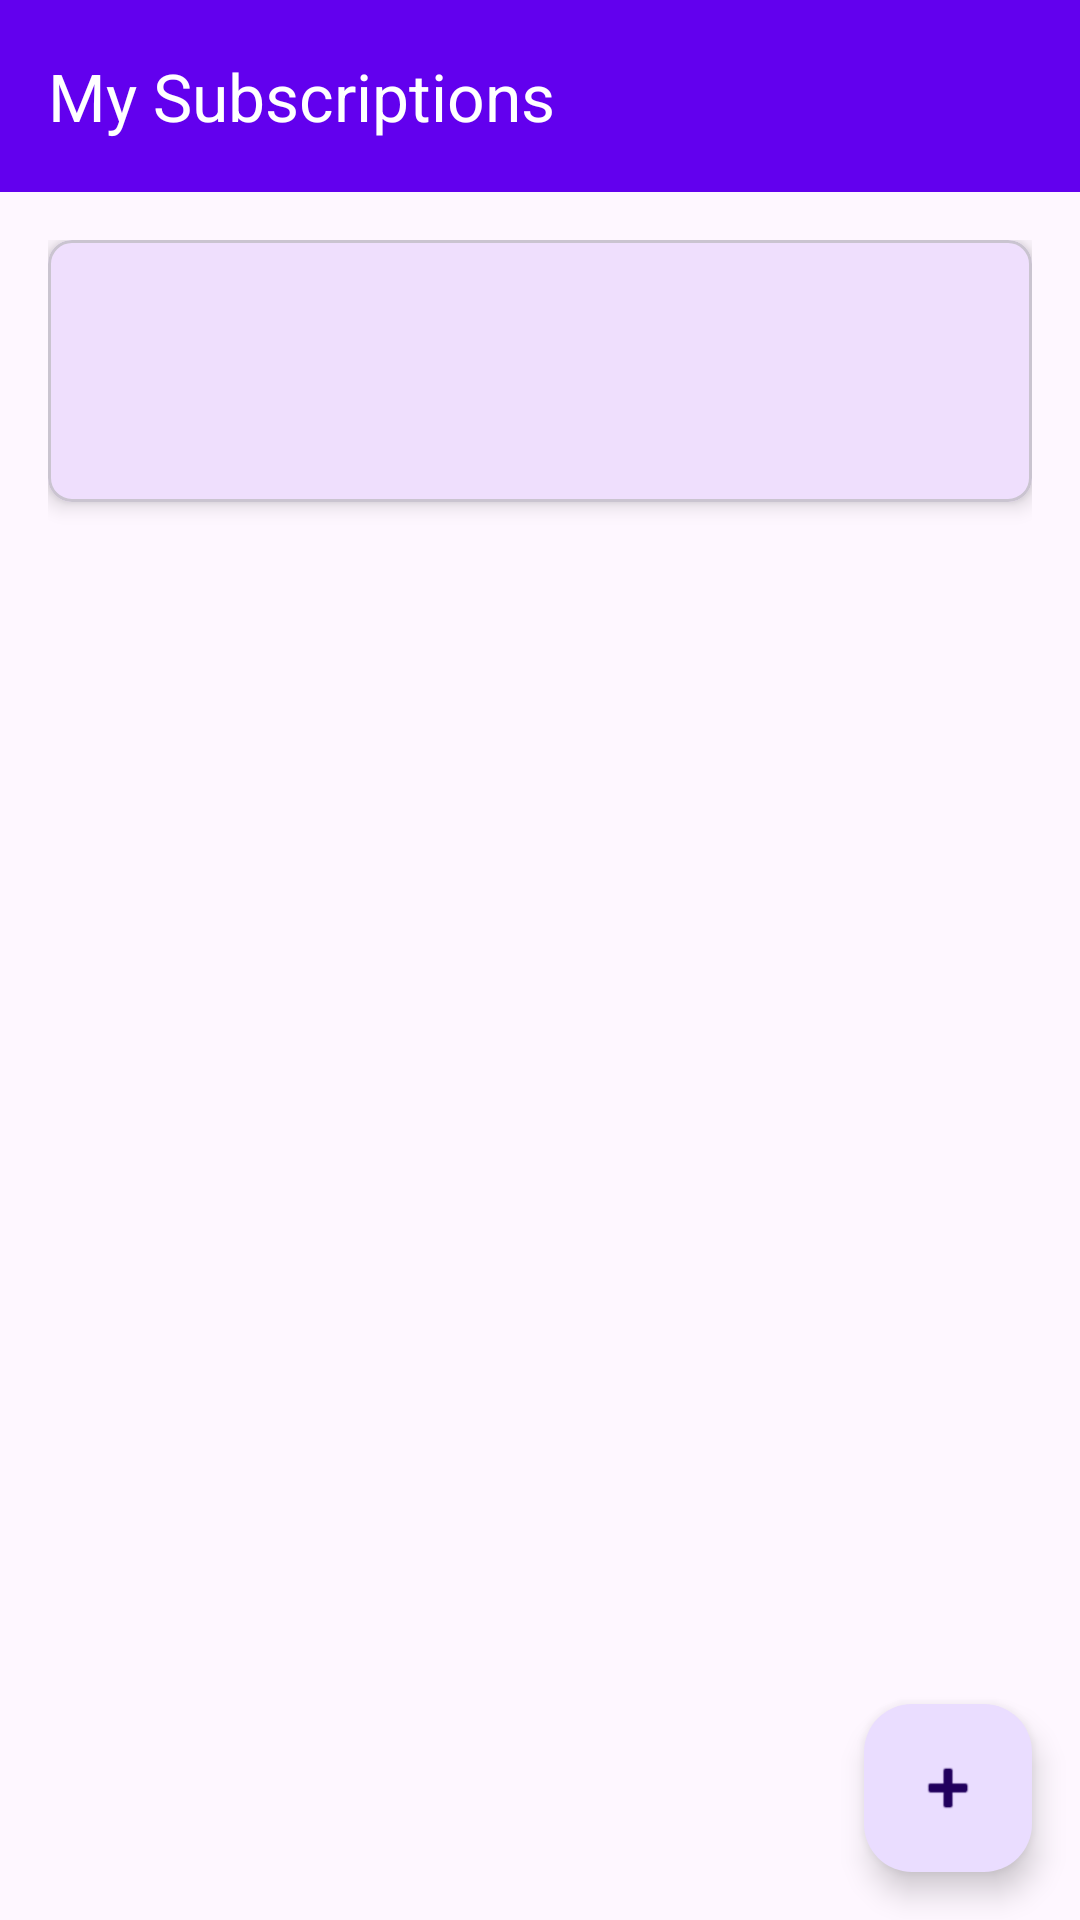

Screen size 1080px x 1920px. Icon name, then its center in pixels as point (x, y):
Add subscription: point (948, 1788)
